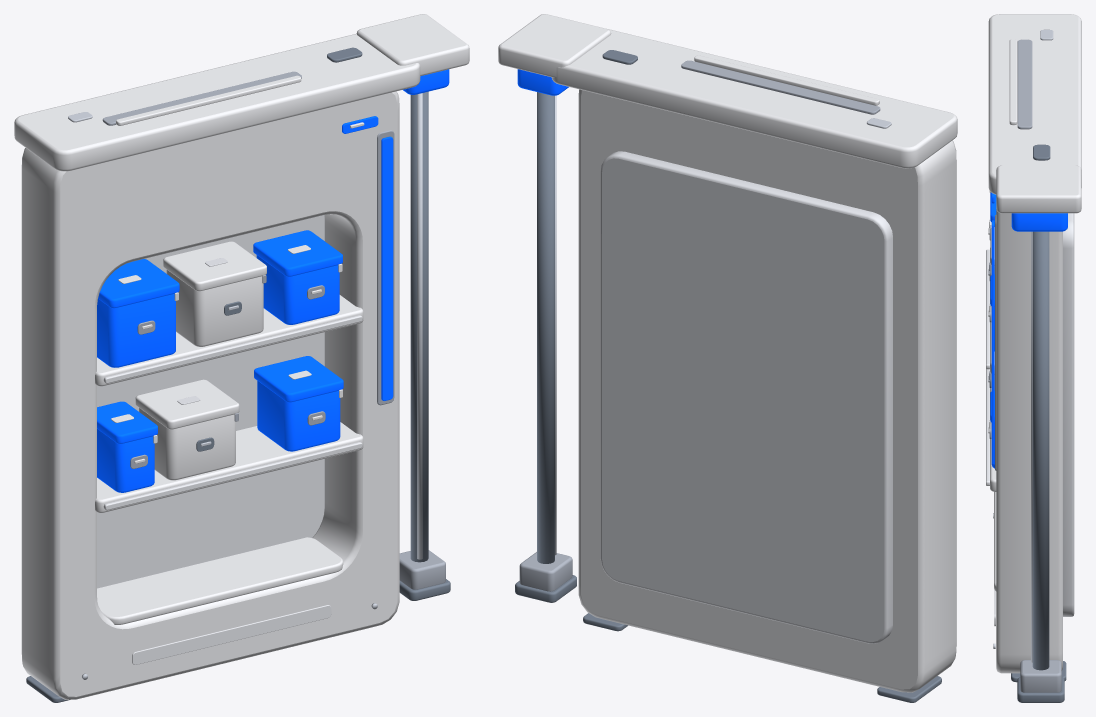
Rendered from 03-nodeworks-main-structure-right.glb.
The picture shows the model from 3 angles, left to right: view 1: azimuth 30°, elevation 25°; view 2: azimuth 150°, elevation 25°; view 3: azimuth 270°, elevation 25°; orthographic projection. The views are drawn at different scales.
Visible parts, largest first — view 1: main_storage_frame, recessed_back_wall, crown_main_cap, bottom_niche_sill, right_exposed_support_rod, upper_box_center_body, upper_box_left_body, lower_shelf, right_support_cap, lower_box_center_body, lower_box_right_body, upper_box_right_body (+17 smaller); view 2: recessed_back_wall, main_storage_frame, crown_main_cap, right_exposed_support_rod, right_support_cap, top_recess_channel, support_bottom_socket, top_channel_white_rail, right_support_metal_highlight, support_top_blue_socket, support_bottom_foot; view 3: main_storage_frame, crown_main_cap, right_exposed_support_rod, recessed_back_wall, right_support_cap, top_recess_channel, support_bottom_socket, support_top_blue_socket, right_blue_vertical_channel, right_support_metal_highlight, top_channel_white_rail, support_bottom_foot (+7 smaller).
Boxes of the visible parts, bbox=[...] form: main_storage_frame: bbox=[21, 91, 399, 699]; recessed_back_wall: bbox=[97, 215, 324, 588]; crown_main_cap: bbox=[14, 33, 420, 171]; bottom_niche_sill: bbox=[97, 537, 343, 624]; right_exposed_support_rod: bbox=[410, 91, 428, 562]; upper_box_center_body: bbox=[166, 270, 263, 346]; upper_box_left_body: bbox=[97, 294, 175, 367]; lower_shelf: bbox=[95, 422, 363, 512]; right_support_cap: bbox=[356, 14, 469, 76]; lower_box_center_body: bbox=[139, 408, 235, 480]; lower_box_right_body: bbox=[257, 381, 340, 451]; upper_box_right_body: bbox=[256, 255, 339, 324]; recessed_back_wall: bbox=[600, 151, 892, 643]; main_storage_frame: bbox=[578, 89, 956, 692]; crown_main_cap: bbox=[551, 29, 957, 168]; right_exposed_support_rod: bbox=[537, 92, 554, 563]; right_support_cap: bbox=[498, 14, 611, 77]; top_recess_channel: bbox=[681, 60, 880, 114]; support_bottom_socket: bbox=[519, 552, 572, 591]; top_channel_white_rail: bbox=[694, 55, 879, 105]; right_support_metal_highlight: bbox=[555, 95, 556, 555]; support_top_blue_socket: bbox=[517, 69, 568, 95]; support_bottom_foot: bbox=[515, 575, 576, 602]; main_storage_frame: bbox=[996, 209, 1062, 673]; crown_main_cap: bbox=[988, 14, 1081, 194]; right_exposed_support_rod: bbox=[1032, 231, 1049, 670]; recessed_back_wall: bbox=[1063, 213, 1074, 616]; right_support_cap: bbox=[996, 165, 1081, 213]; top_recess_channel: bbox=[1017, 39, 1032, 129]; support_bottom_socket: bbox=[1020, 660, 1061, 692]; support_top_blue_socket: bbox=[1011, 213, 1067, 231]; right_blue_vertical_channel: bbox=[991, 220, 994, 465]; right_support_metal_highlight: bbox=[1031, 231, 1032, 662]; top_channel_white_rail: bbox=[1009, 39, 1017, 125]; support_bottom_foot: bbox=[1017, 677, 1064, 702].
Size of the model in its own units: 1.93 by 2.5 by 0.4165.
